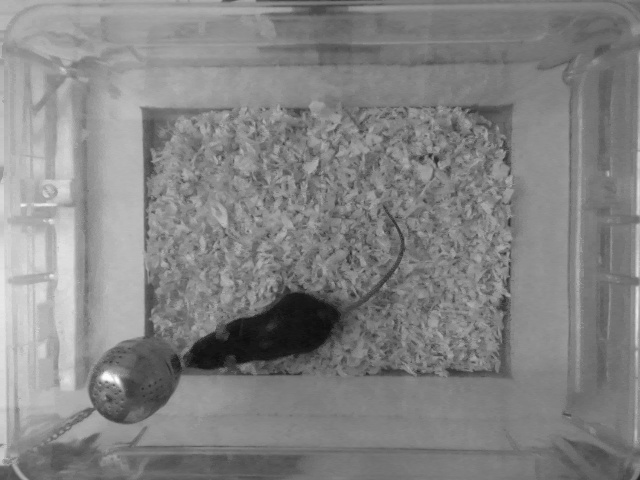mice: (180, 203, 404, 374)
